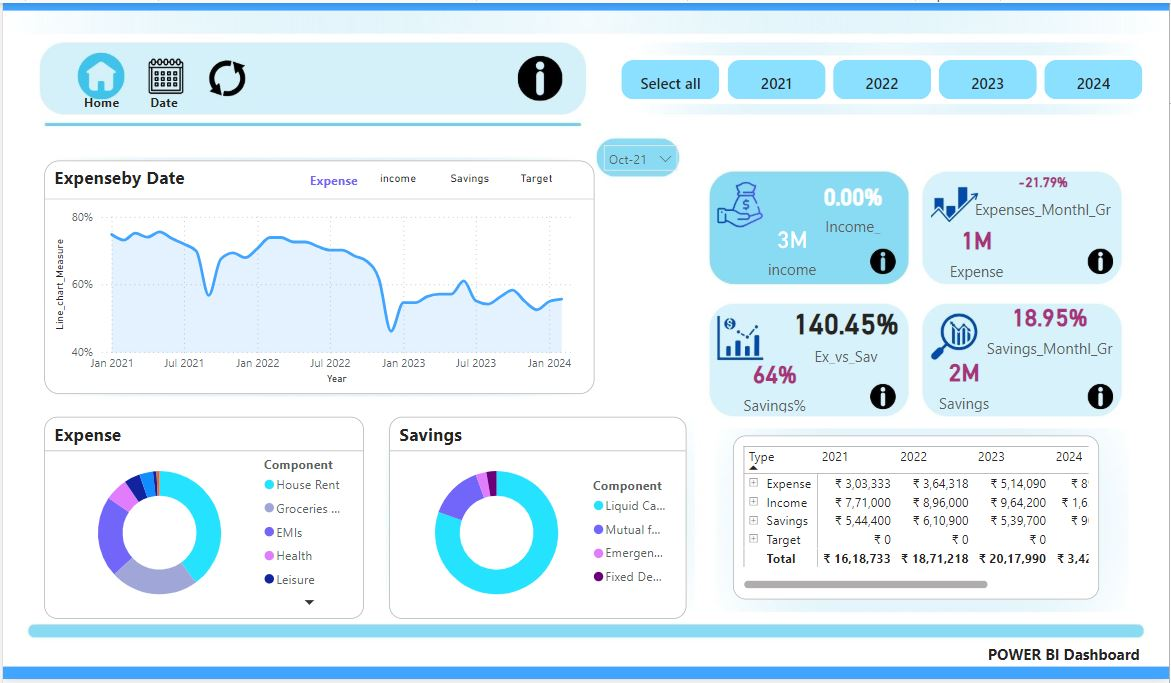

The dashboard page shown, as its layout file describes it:
{"tool":"powerbi","page":{"name":"Page 1","canvas":[1246,722],"ordinal":0},"visuals":[{"type":"card","fields":{"Values":["dataset.income"]},"box":[801.5,221.7,84.2,81.5],"z":0},{"type":"card","fields":{"Values":["dataset.Savings"]},"box":[976.4,367.3,101.5,74.8],"z":1000},{"type":"card","fields":{"Values":["dataset.Expense"]},"box":[976.4,224.4,128.2,78.8],"z":2000},{"type":"card","fields":{"Values":["dataset.Saving%"]},"box":[780.1,372.7,89.5,69.5],"z":3000},{"type":"advancedSlicerVisual","fields":{"Values":["dataset.year"]},"box":[655.9,56.1,567.7,52.1],"z":4000},{"type":"donutChart","title":"Expense ","fields":{"Category":["dataset.Component"],"Y":["dataset.Expense"]},"box":[44.1,442.1,342,216.4],"z":5000},{"type":"donutChart","title":"Savings ","fields":{"Y":["dataset.Savings"],"Category":["dataset.Component"]},"box":[412.8,442.1,317.9,216.4],"z":6000},{"type":"pivotTable","fields":{"Values":["dataset.total_value"],"Rows":["dataset.Type","dataset.Component"],"Columns":["dataset.year"]},"box":[780.1,462.2,391.4,175],"z":7000},{"type":"areaChart","fields":{"Category":["dataset.Date.Variation.Date Hierarchy.Year","dataset.Date.Variation.Date Hierarchy.Quarter","dataset.Date.Variation.Date Hierarchy.Month","dataset.Date.Variation.Date Hierarchy.Day"],"Y":["dataset.Line_chart_Measure"]},"box":[44.1,168.3,587.7,249.8],"z":8000},{"type":"advancedSlicerVisual","fields":{"Values":["Line_selection_Table.Type"]},"box":[317.9,173.6,304.6,30.7],"z":9000},{"type":"slicer","fields":{"Values":["Selected_Date.Month_yr"]},"box":[631.8,141.6,98.8,62.8],"z":10000},{"type":"card","fields":{"Values":["dataset.Expenses_Monthl_Gr"]},"box":[1020.5,165.6,181.7,76.1],"z":11000},{"type":"card","fields":{"Values":["dataset.Income_Monthl_Gr"]},"box":[833.5,183,149.6,68.1],"z":12000},{"type":"card","fields":{"Values":["dataset.Savings_Monthl_Gr"]},"box":[1040.6,303.2,156.3,86.8],"z":13000},{"type":"card","fields":{"Values":["dataset.Ex_vs_Sav"]},"box":[833.5,313.9,134.9,76.1],"z":14000},{"type":"textbox","box":[1047.2,679.9,176.3,42.7],"z":15000},{"type":"textbox","box":[81.5,92.2,70.8,32.1],"z":16000},{"type":"textbox","box":[152.3,92.2,70.8,32.1],"z":18000}]}

Visuals, with their boxes in screenshot pixels (x1, y1, x2, y2), scaled from the page's 1246x722 canvas onto the 1171x683 screenshot:
card - dataset.income: (753, 210, 832, 287)
card - dataset.Savings: (918, 347, 1013, 418)
card - dataset.Expense: (918, 212, 1038, 287)
card - dataset.Saving%: (733, 353, 817, 418)
advancedSlicerVisual - dataset.year: (616, 53, 1150, 102)
"Expense " donutChart: (41, 418, 363, 623)
"Savings " donutChart: (388, 418, 687, 623)
pivotTable - dataset.total_value x dataset.Type: (733, 437, 1101, 603)
areaChart - dataset.Date.Variation.Date Hierarchy.Year x dataset.Date.Variation.Date Hierarchy.Quarter: (41, 159, 594, 396)
advancedSlicerVisual - Line_selection_Table.Type: (299, 164, 585, 193)
slicer - Selected_Date.Month_yr: (594, 134, 687, 193)
card - dataset.Expenses_Monthl_Gr: (959, 157, 1130, 229)
card - dataset.Income_Monthl_Gr: (783, 173, 924, 238)
card - dataset.Savings_Monthl_Gr: (978, 287, 1125, 369)
card - dataset.Ex_vs_Sav: (783, 297, 910, 369)
textbox: (984, 643, 1150, 682)
textbox: (77, 87, 143, 118)
textbox: (143, 87, 210, 118)
